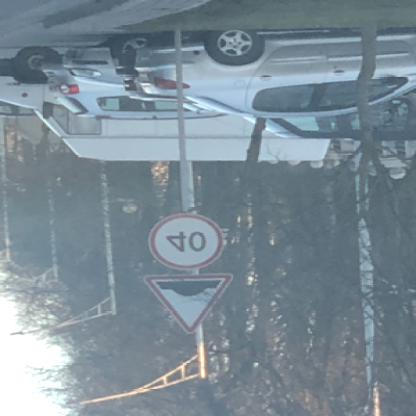speedlimit: (146, 216, 220, 272)
